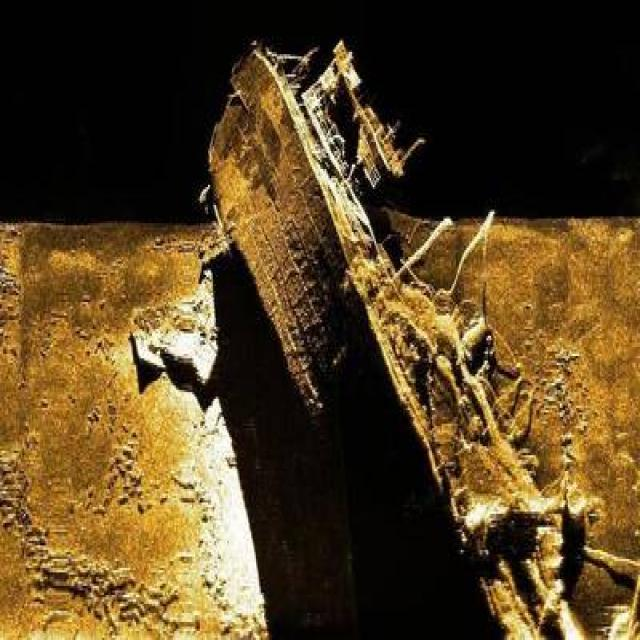shipwreck: (205, 27, 620, 636)
